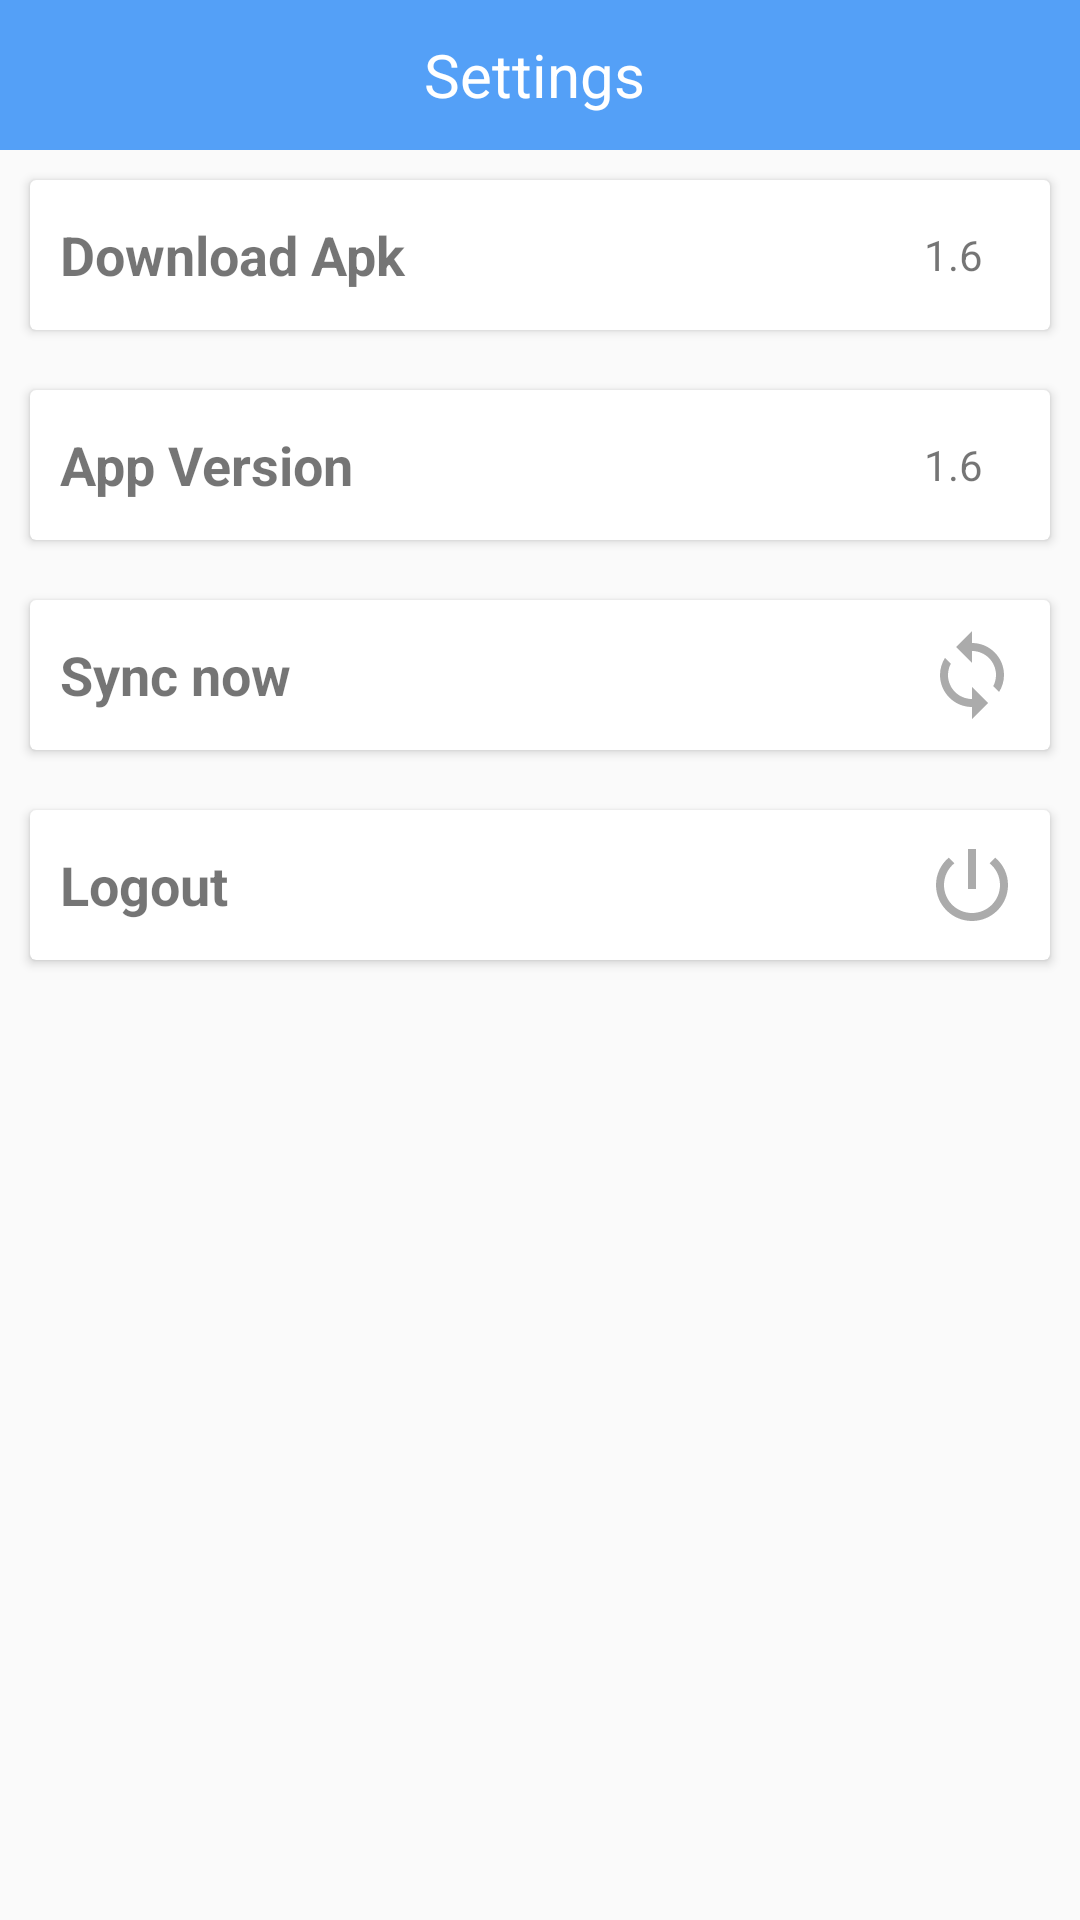

Icons on this 1080*1920 Android screen, each with the point to tap as [x,y]:
synch: [972,675]
